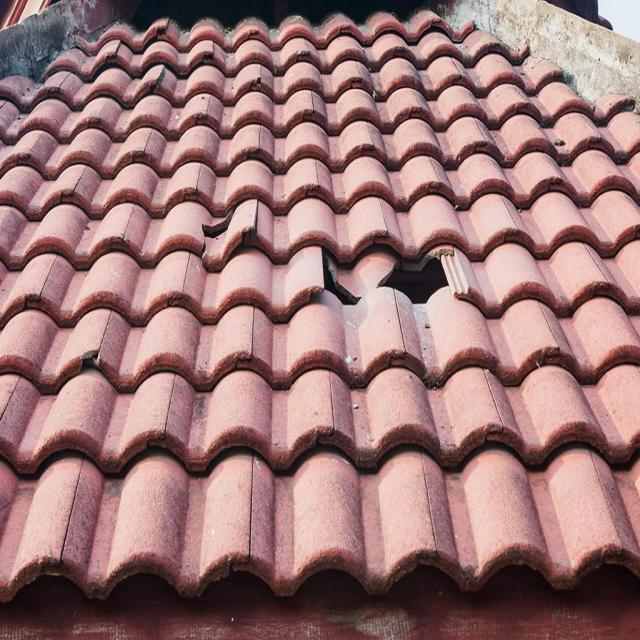trou: (313, 243, 470, 306), (191, 206, 237, 250)
